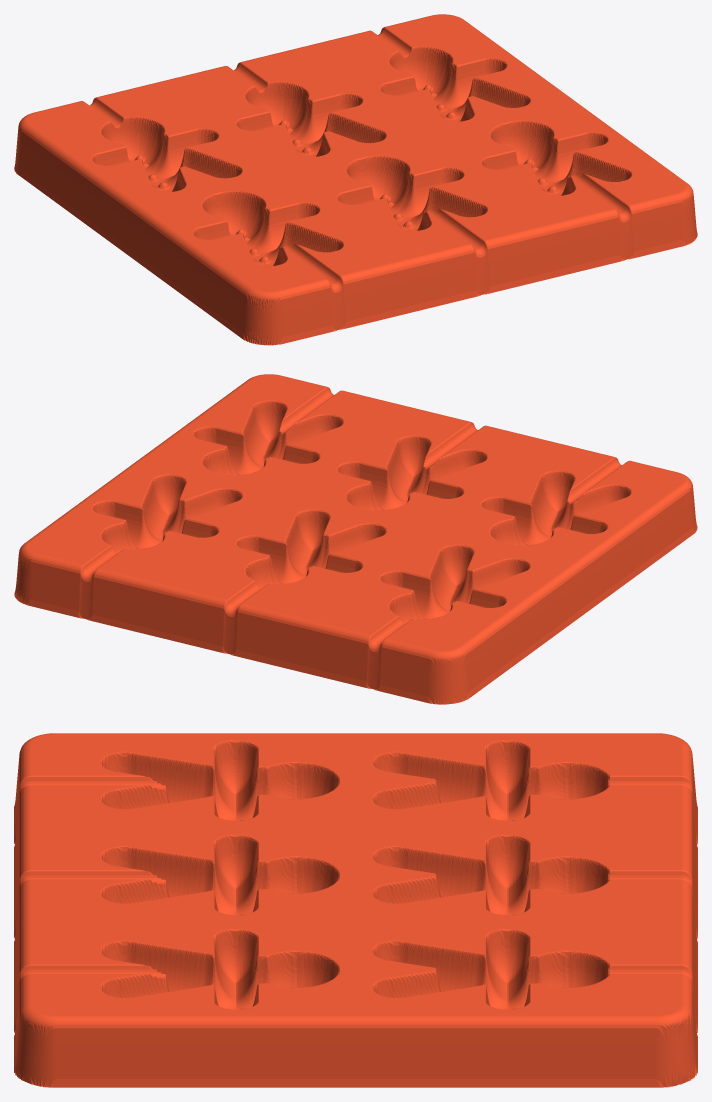
The model's file is mold.glb.
3 renders of one model, top to bottom at view 1: azimuth 30°, elevation 25°; view 2: azimuth 150°, elevation 25°; view 3: azimuth 270°, elevation 25°, orthographic. The views are drawn at different scales.
Parts seen in each view (by area): view 1: geometry_0; view 2: geometry_0; view 3: geometry_0.
Part boxes in pixels (<box>): geometry_0: <box>14,14,697,345</box>; geometry_0: <box>14,374,697,704</box>; geometry_0: <box>14,733,697,1087</box>.
Size of the model in its own units: 0.1511 by 0.0155 by 0.1477.
